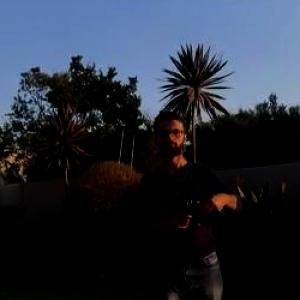follow: (130, 103, 250, 299)
